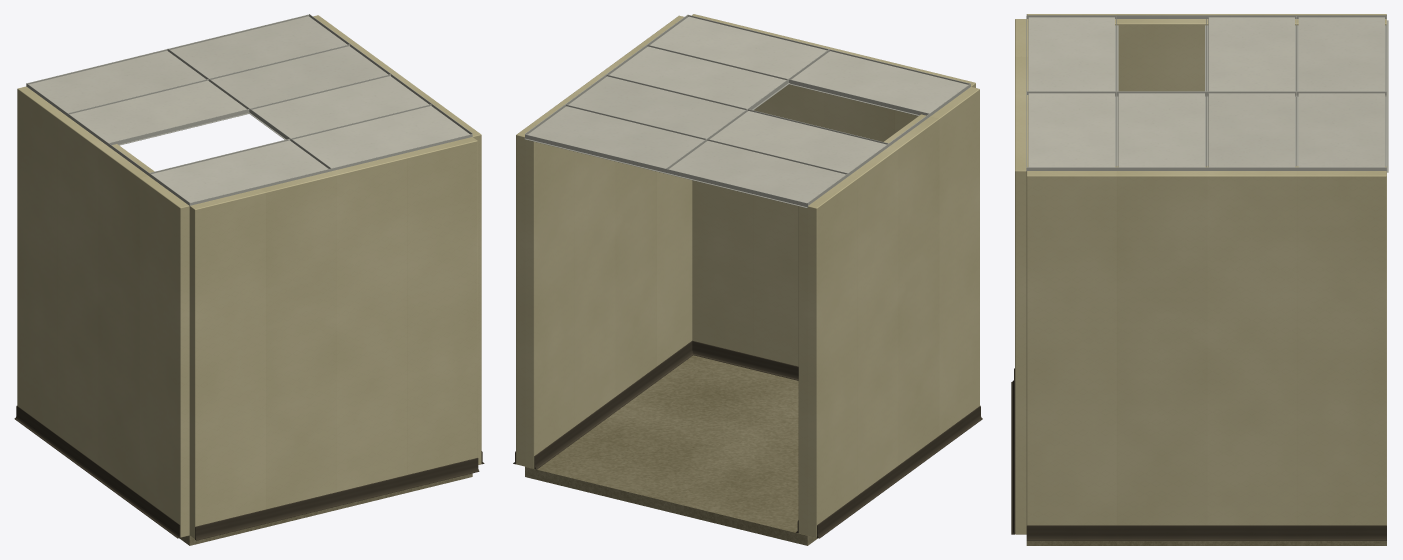
File: short_exit.gltf
3 renders of one model, left to right at view 1: azimuth 30°, elevation 25°; view 2: azimuth 150°, elevation 25°; view 3: azimuth 270°, elevation 25°, orthographic. The views are drawn at different scales.
Parts seen in each view (by area): view 1: short_exit; view 2: short_exit; view 3: short_exit.
Boxes of the visible parts, x1=… form: short_exit: x1=14, y1=14, x2=484, y2=545; short_exit: x1=513, y1=14, x2=982, y2=545; short_exit: x1=1011, y1=14, x2=1388, y2=545.
Bounding box in the file's own units: 2.65 × 2.83 × 2.56.
Materials: 5 (5 with a texture image).
